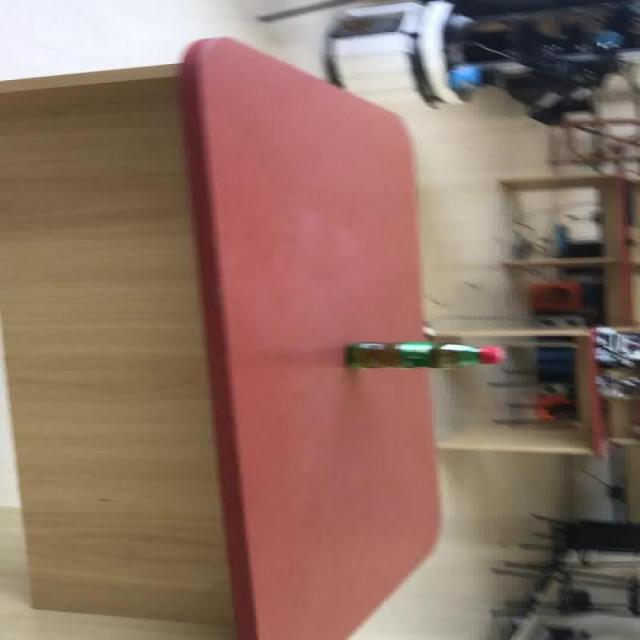Guarana: (344, 340, 506, 369)
